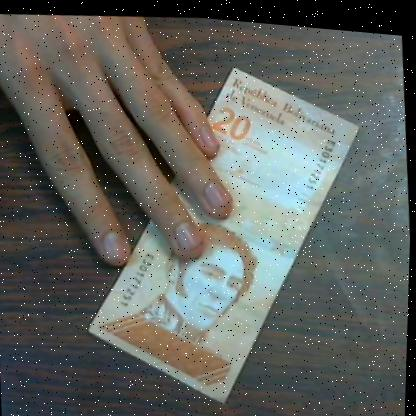twenty-front-vef: (65, 41, 382, 416)
